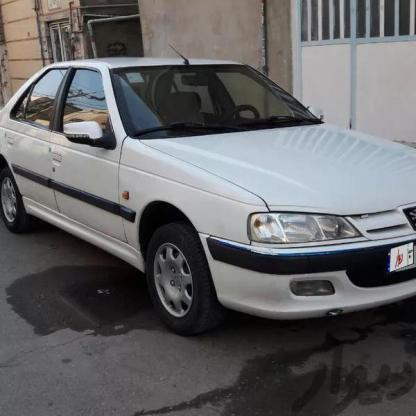Car: (0, 47, 416, 350)
